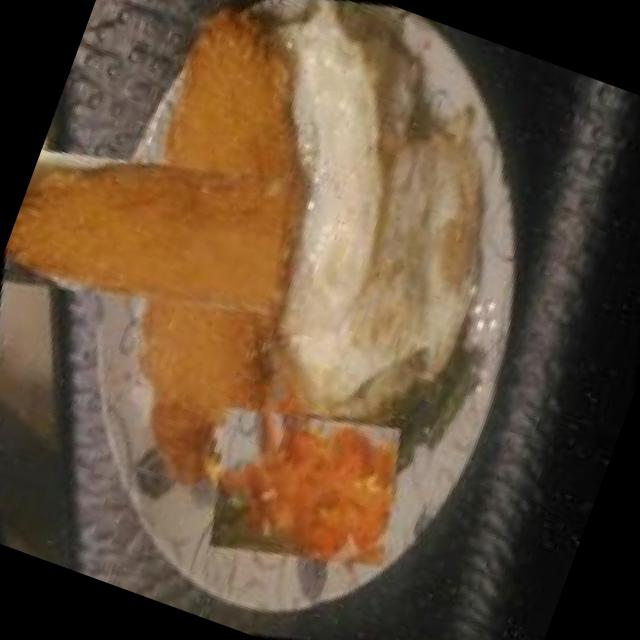carrot_eggs: (180, 370, 432, 604)
fried_chicken: (0, 15, 448, 467)
fried_eggs: (176, 0, 589, 477)
